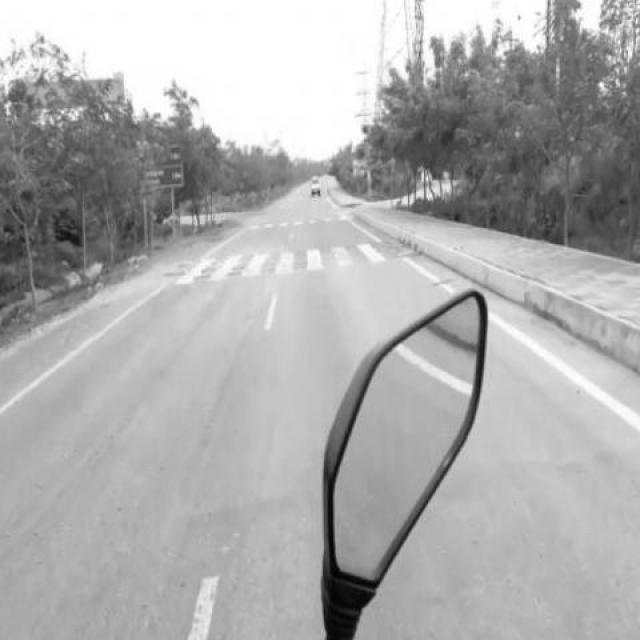Speed Bump: (161, 240, 424, 279)
